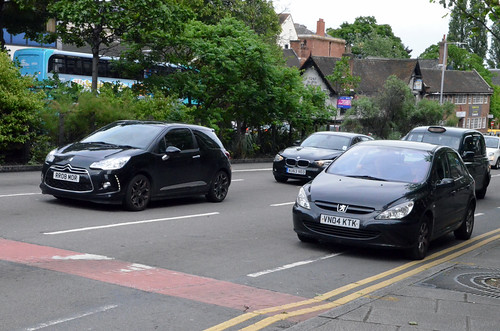building: (309, 54, 493, 133)
car: (278, 140, 482, 258), (38, 121, 237, 206), (278, 131, 364, 184)
street: (1, 168, 488, 330)
tree: (338, 16, 411, 61)
vegetation: (1, 1, 294, 139)
